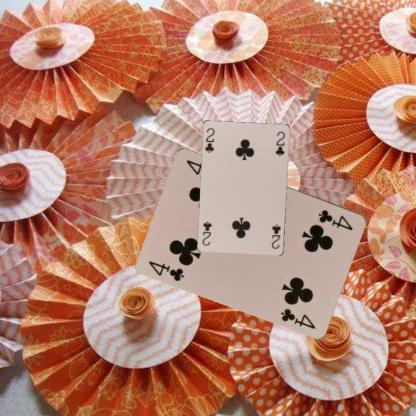2c: (269, 222, 282, 250), (203, 126, 216, 154)
4c: (146, 258, 186, 282), (316, 207, 354, 232)
